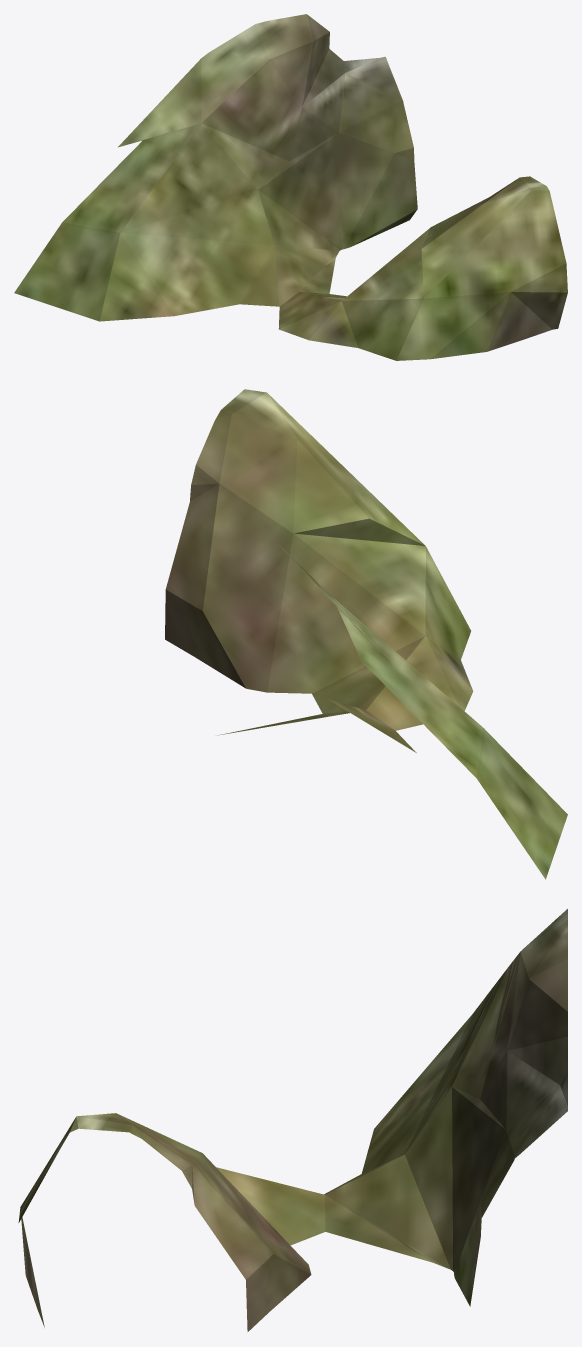
3 views of the same model, one above another, from view 1: azimuth 30°, elevation 25°; view 2: azimuth 150°, elevation 25°; view 3: azimuth 270°, elevation 25° (orthographic). The views are drawn at different scales.
Size of the model in its own units: 1.57 by 0.8491 by 1.34.
1 material, 1 textured.
